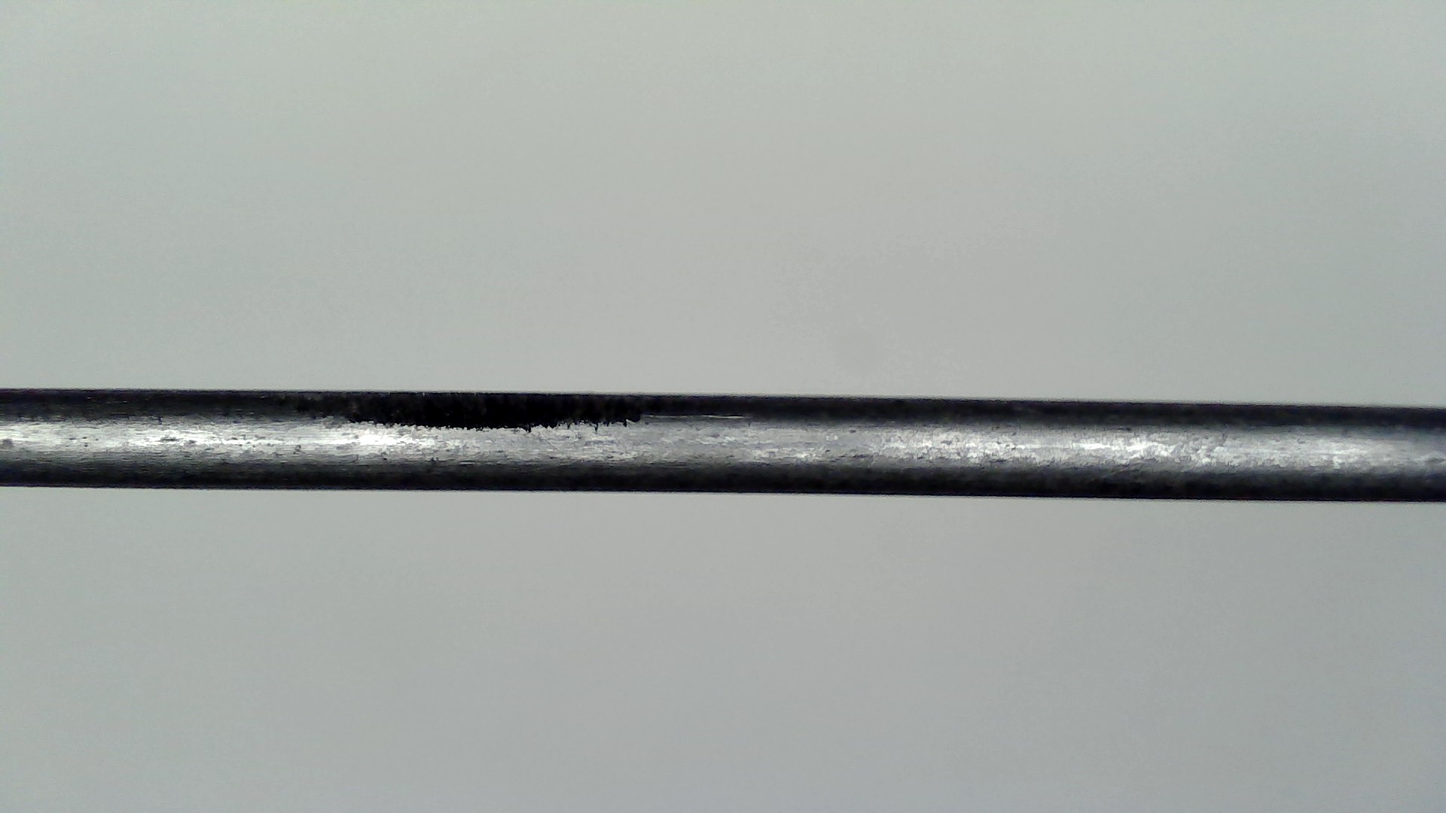defect: (310, 384, 694, 432)
